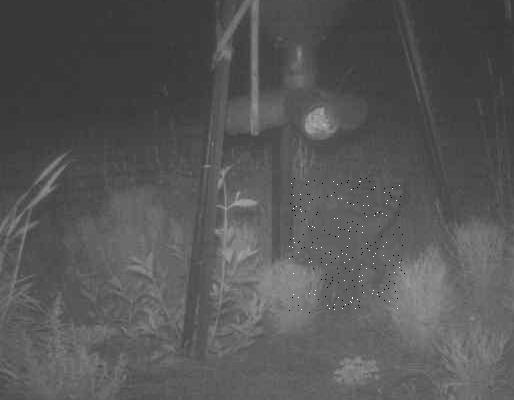Raccoon: (288, 178, 404, 313)
